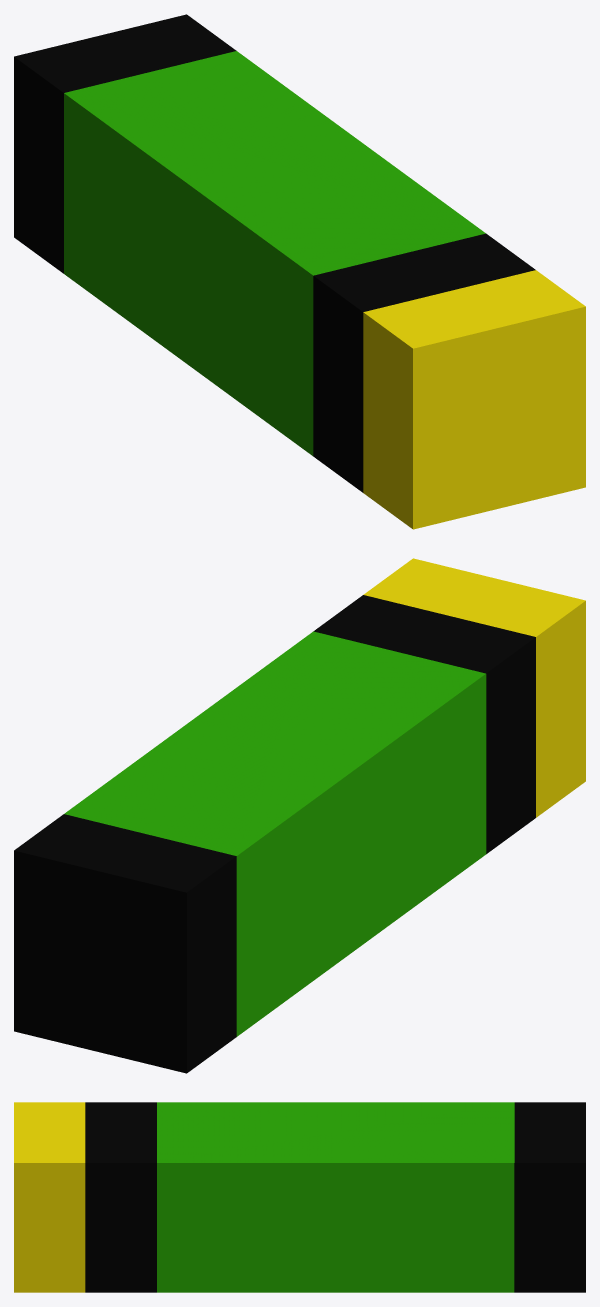
File: bullet.obj
3 renders of one model, top to bottom at view 1: azimuth 30°, elevation 25°; view 2: azimuth 150°, elevation 25°; view 3: azimuth 270°, elevation 25°, orthographic. The views are drawn at different scales.
Size of the model in its own units: 0.2 by 0.2 by 0.8.
1 material, 1 textured.
